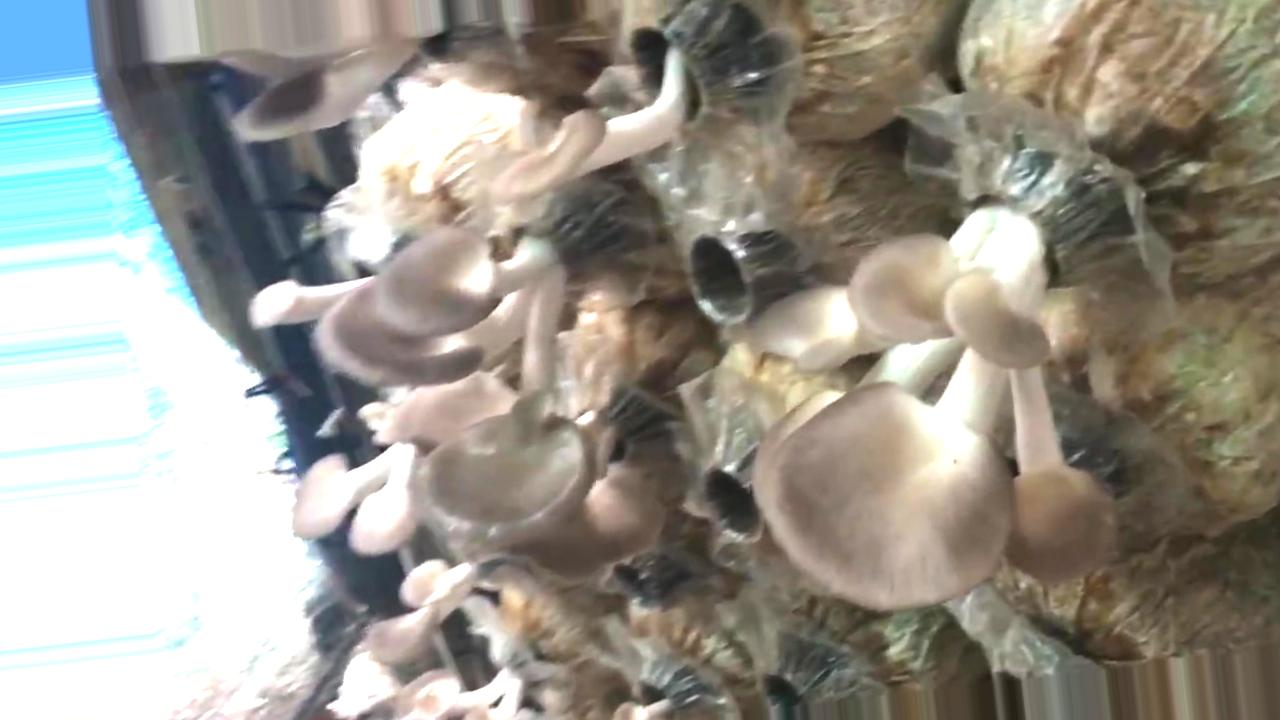nam: (753, 152, 1116, 603), (249, 193, 599, 545), (499, 5, 764, 199), (298, 439, 413, 553), (413, 635, 534, 720), (378, 562, 478, 656)
